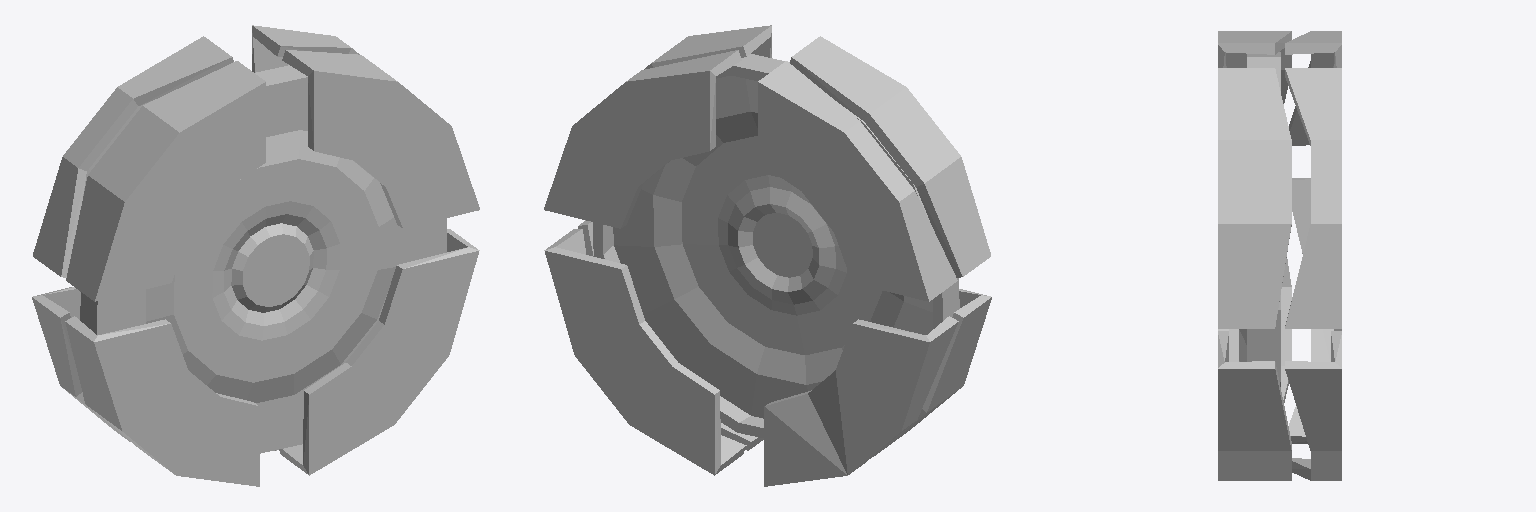
Rendered from MAT SPINFUZOR.obj.
The picture shows the model from 3 angles: view 1: azimuth 30°, elevation 25°; view 2: azimuth 150°, elevation 25°; view 3: azimuth 270°, elevation 25°; orthographic projection.
Bounding box in the file's own units: 14.13 × 14.13 × 3.95.